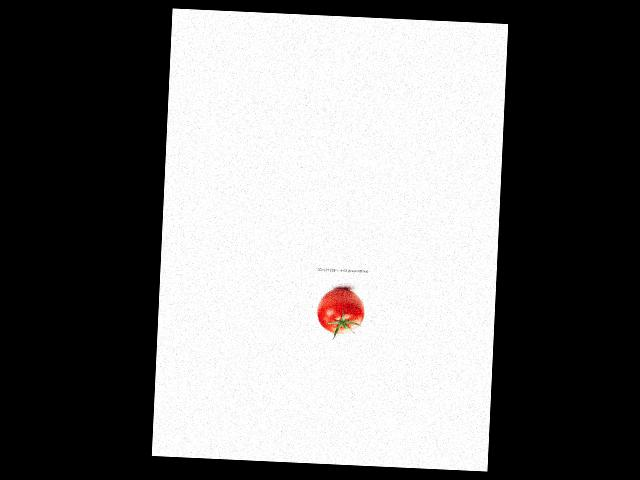tomato: (316, 287, 364, 334)
